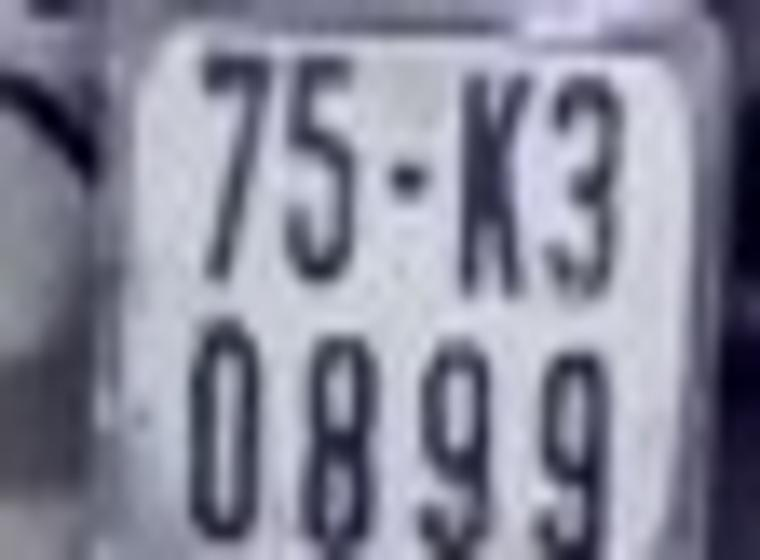-: (388, 149, 432, 212)
0: (191, 328, 268, 543)
3: (543, 71, 630, 307)
5: (283, 51, 370, 292)
7: (198, 46, 275, 281)
8: (294, 337, 378, 555)
9: (412, 332, 505, 557), (527, 345, 612, 560)
K: (450, 72, 541, 302)
